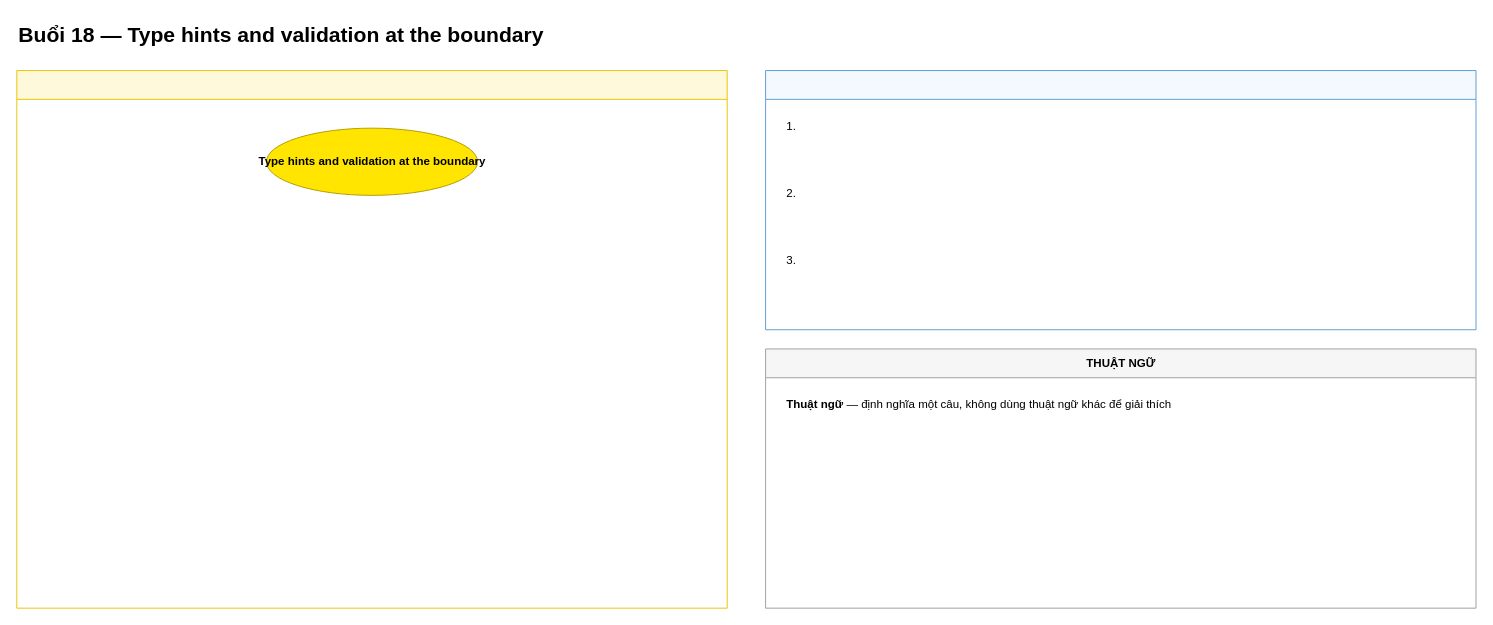
The diagram is 1493 pixels wide and 625 high, and some of its shapes have lost their labels. Each missing label, with the box of its shape:
KEY TAKEAWAY — ba điều phải nhớ: (765, 70, 1476, 330)
MINDMAP: (16, 70, 727, 608)
